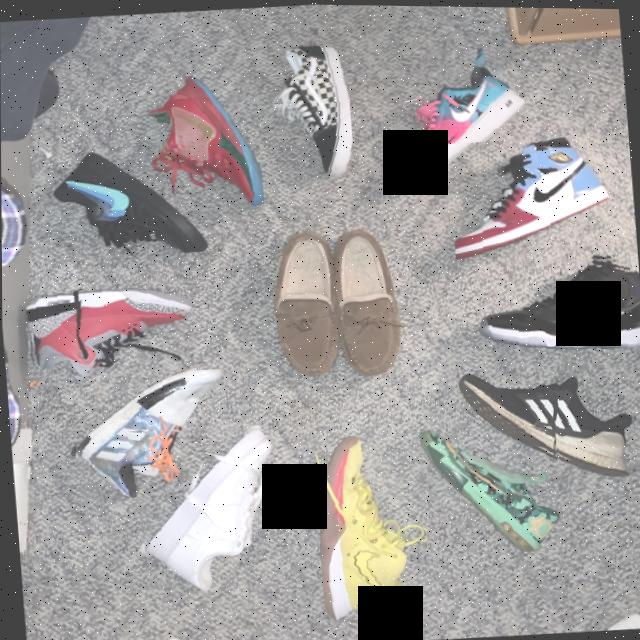shoe: (126, 420, 281, 596), (310, 430, 435, 622), (455, 358, 640, 487), (65, 366, 231, 505), (446, 131, 620, 260), (386, 42, 532, 193), (417, 415, 563, 557), (48, 140, 210, 261), (21, 282, 197, 388), (473, 247, 640, 355), (145, 70, 264, 217), (269, 37, 355, 181)
